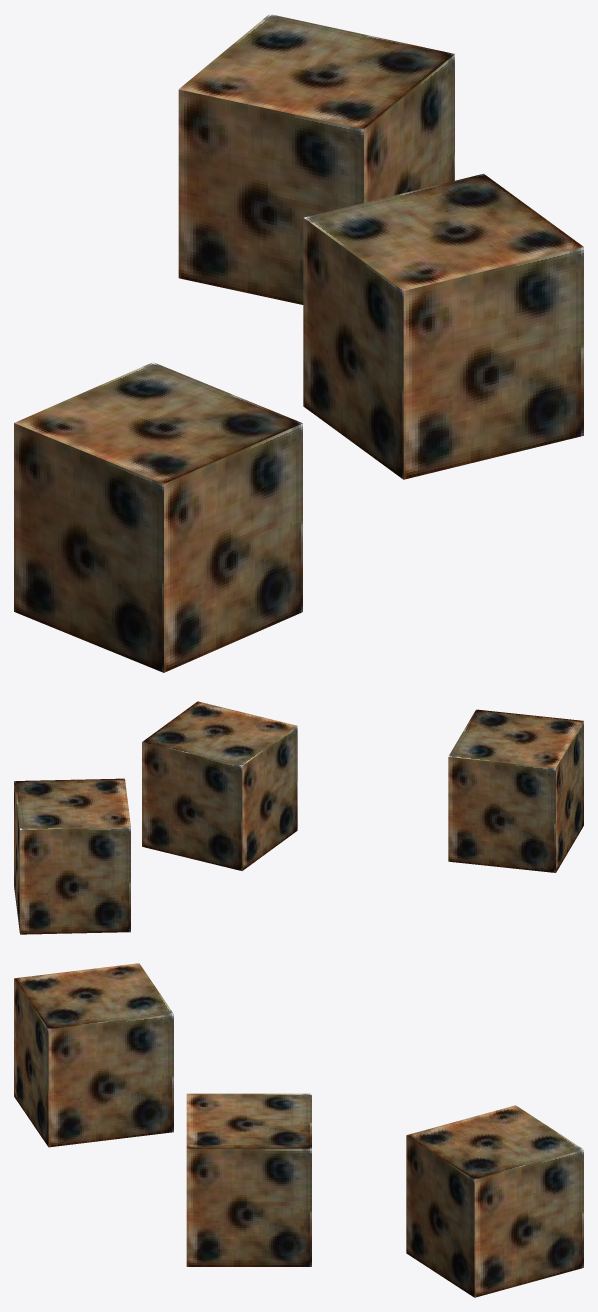
Rendered from dice.glb.
3 views of the same model, one above another, from view 1: azimuth 30°, elevation 25°; view 2: azimuth 150°, elevation 25°; view 3: azimuth 270°, elevation 25° (orthographic). The views are drawn at different scales.
Parts seen in each view (by area): view 1: dice.ms3d.mo; view 2: dice.ms3d.mo; view 3: dice.ms3d.mo.
Boxes of the visible parts, x1,y1,x2,y2 form: dice.ms3d.mo: (14,14,583,672); dice.ms3d.mo: (14,701,583,934); dice.ms3d.mo: (14,963,583,1297).
Size of the model in its own units: 25.54 by 6.5 by 28.41.
1 material, 1 textured.
